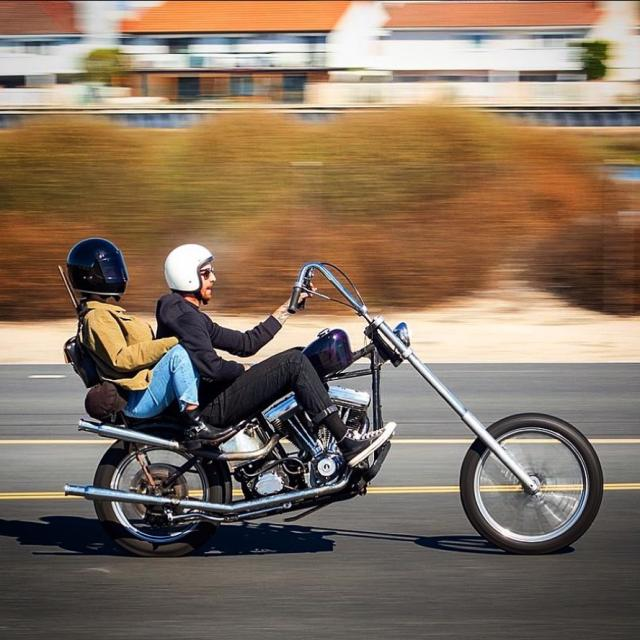helmet: (64, 234, 131, 306), (160, 238, 218, 309)
